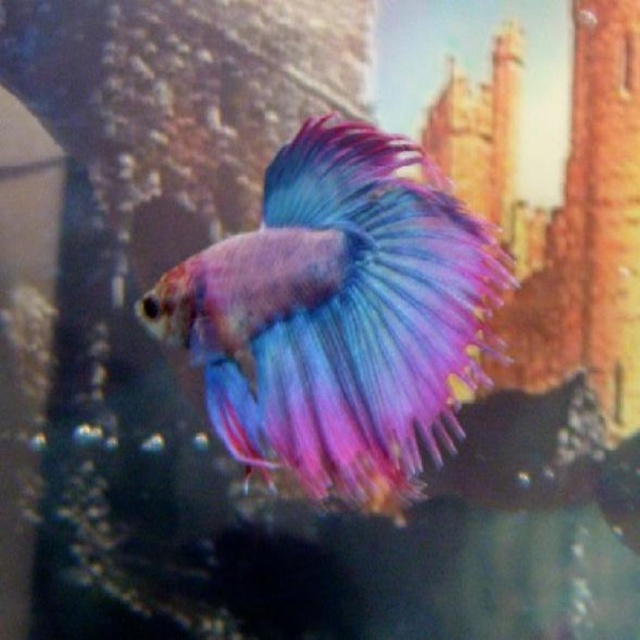Fish: (123, 133, 549, 545)
